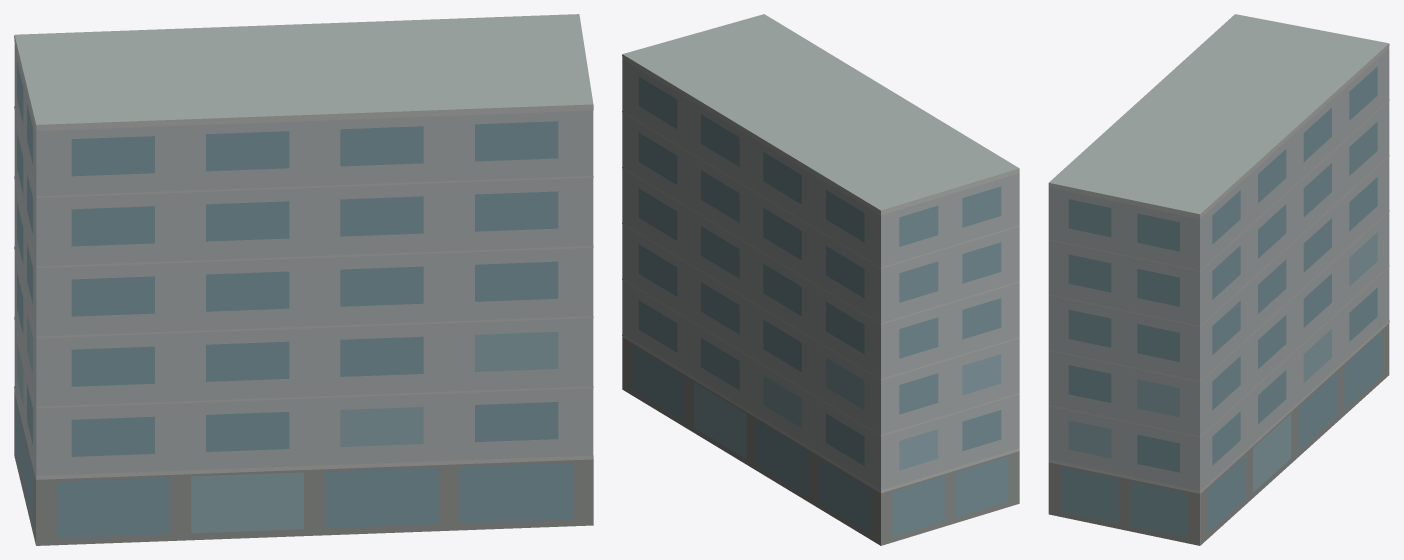
Rendered from survey-upis-32630377.glb.
The picture shows the model from 3 angles, left to right: view 1: azimuth 30°, elevation 25°; view 2: azimuth 150°, elevation 25°; view 3: azimuth 270°, elevation 25°; orthographic projection. The views are drawn at different scales.
Parts seen in each view (by area): view 1: survey-upis-32630377.tmp; view 2: survey-upis-32630377.tmp; view 3: survey-upis-32630377.tmp.
Boxes of the visible parts, x1,y1,x2,y2 form: survey-upis-32630377.tmp: (14, 14, 593, 545); survey-upis-32630377.tmp: (622, 14, 1019, 545); survey-upis-32630377.tmp: (1048, 14, 1389, 545).
Size of the model in its own units: 21.65 by 16.7 by 15.57.
